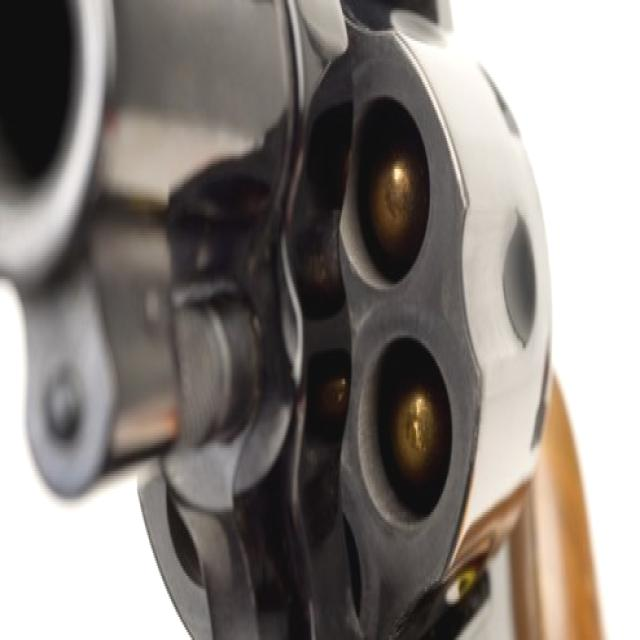pistol: (6, 0, 608, 635)
